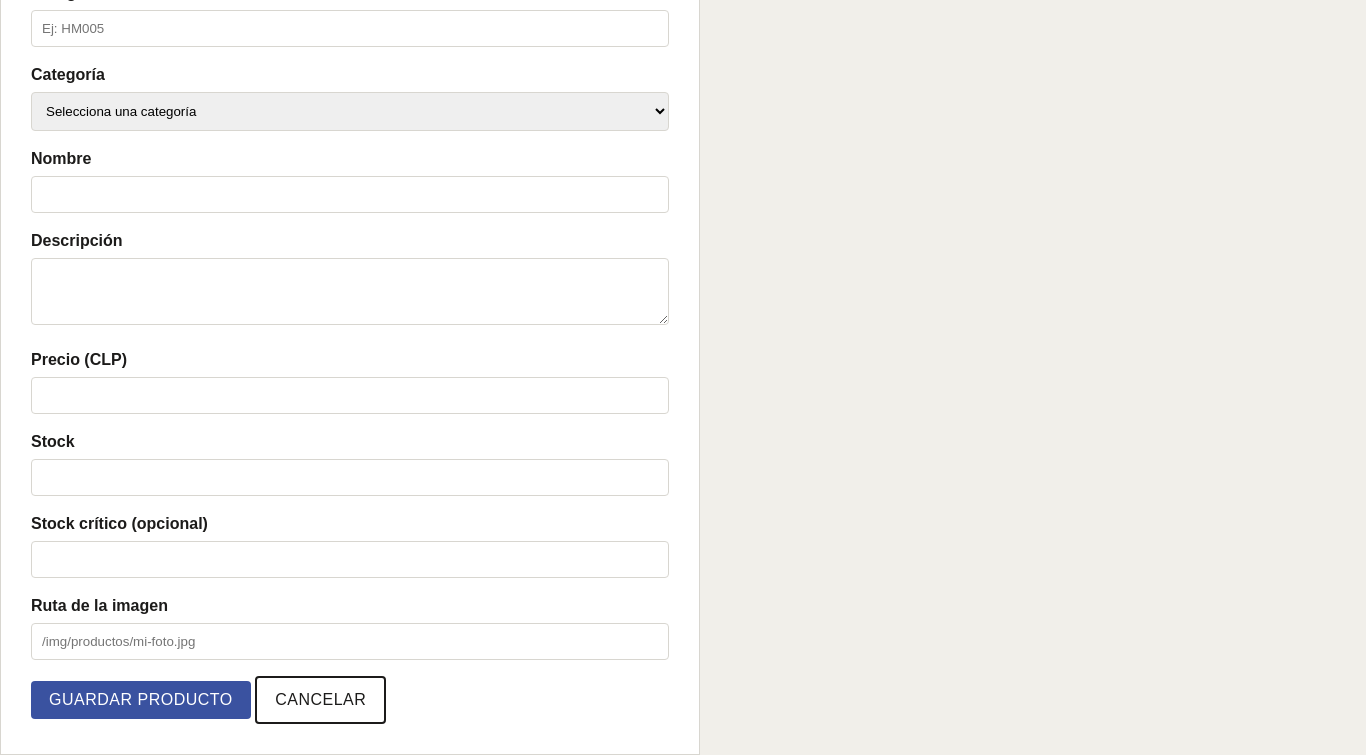
it: AdminProductoForm - nuevo › valida los campos obligatorios
(page scrolled)
What coordinates should you click on to do the following:
click the button "Guardar producto"
I would click on:
 (141, 700)
Its box is [31,681,251,719].
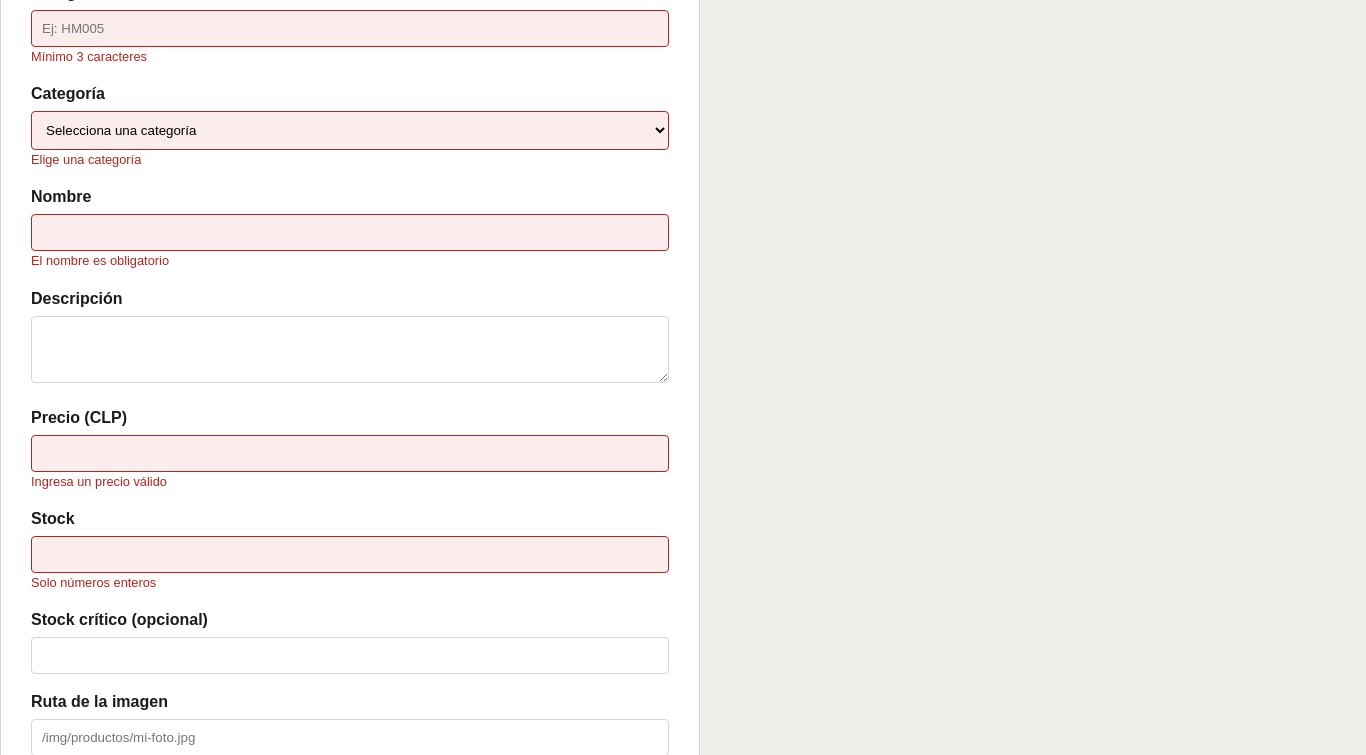
Expected: the text "Mínimo 3 caracteres" is shown, [31,49,147,64]
Expected: the text "El nombre es obligatorio" is shown, [31,253,169,268]
Expected: the text "Elige una categoría" is shown, [31,152,141,167]
